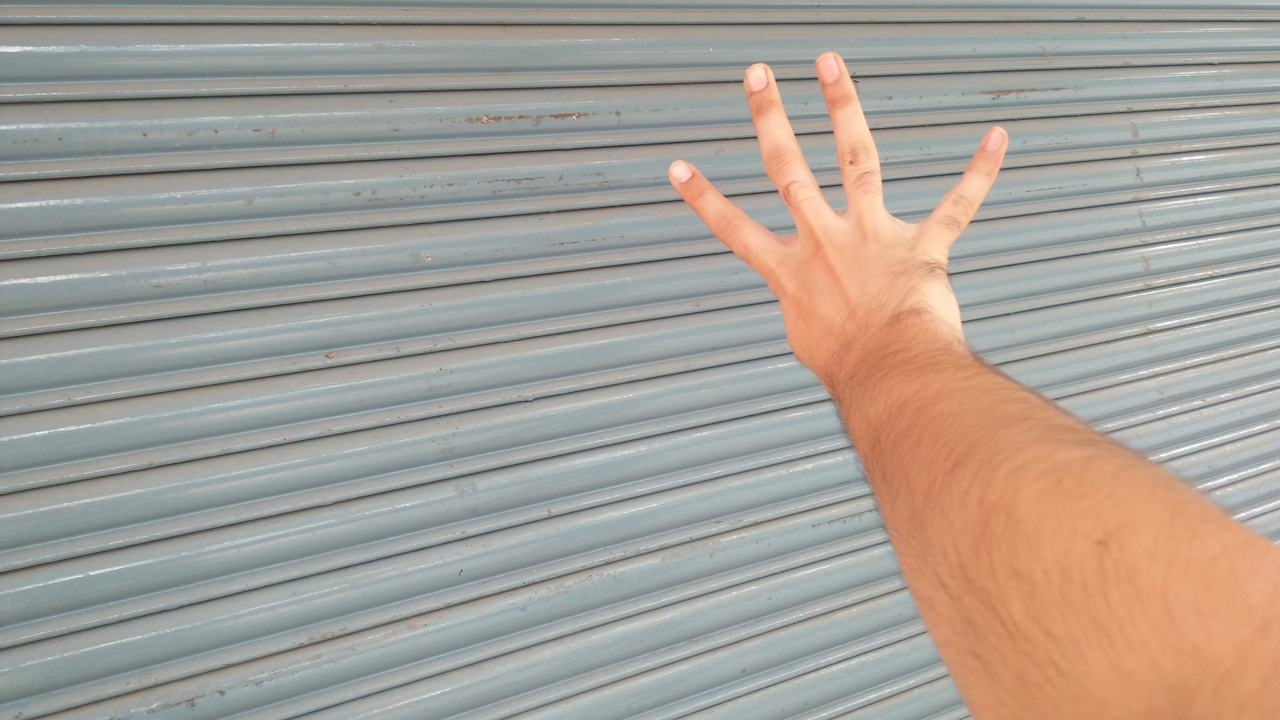fingertip: (964, 116, 1026, 166), (660, 148, 720, 198), (734, 52, 790, 98), (810, 42, 864, 88)
